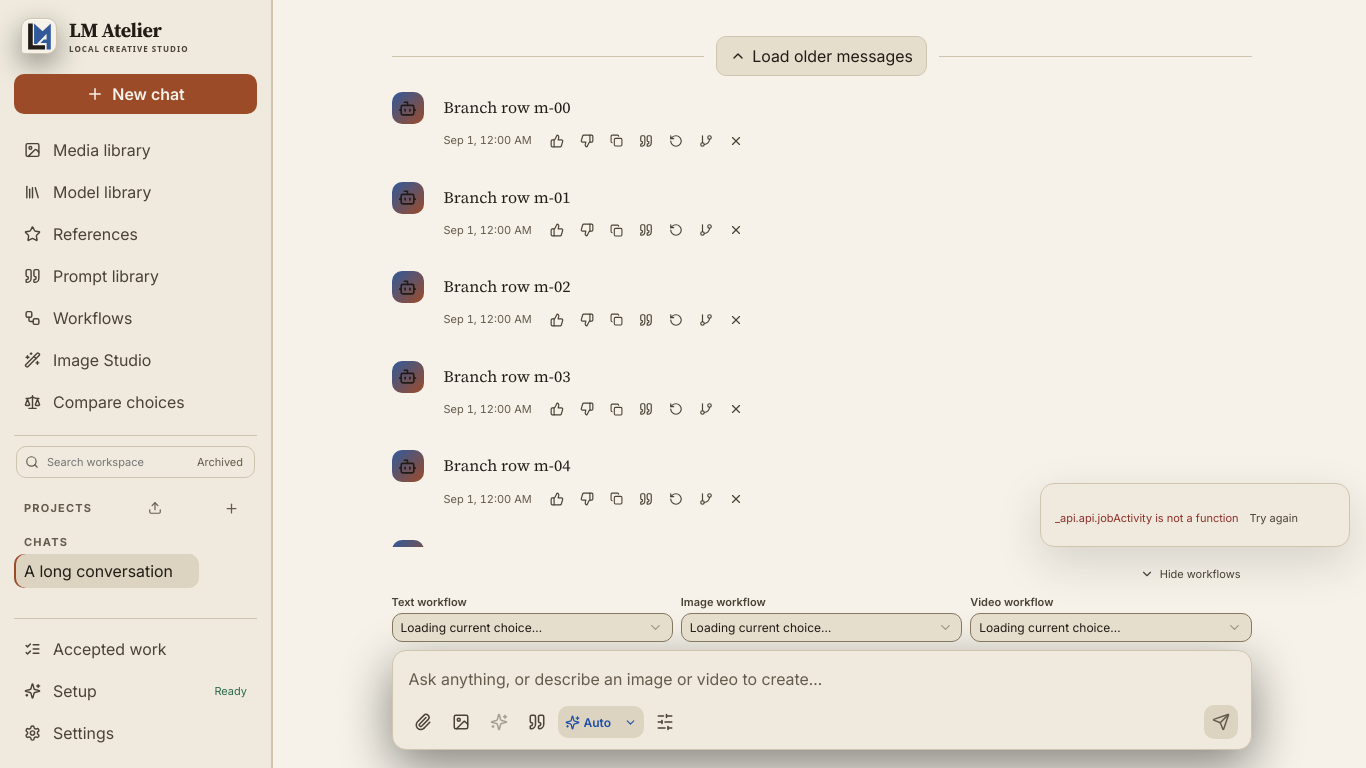
Test case: renders every branch-scoped row when a linking parent is on another page
Expected: the text "Branch row a-gap" is not shown
Click the button "Load older messages" at (822, 56), box [716,36,927,76]
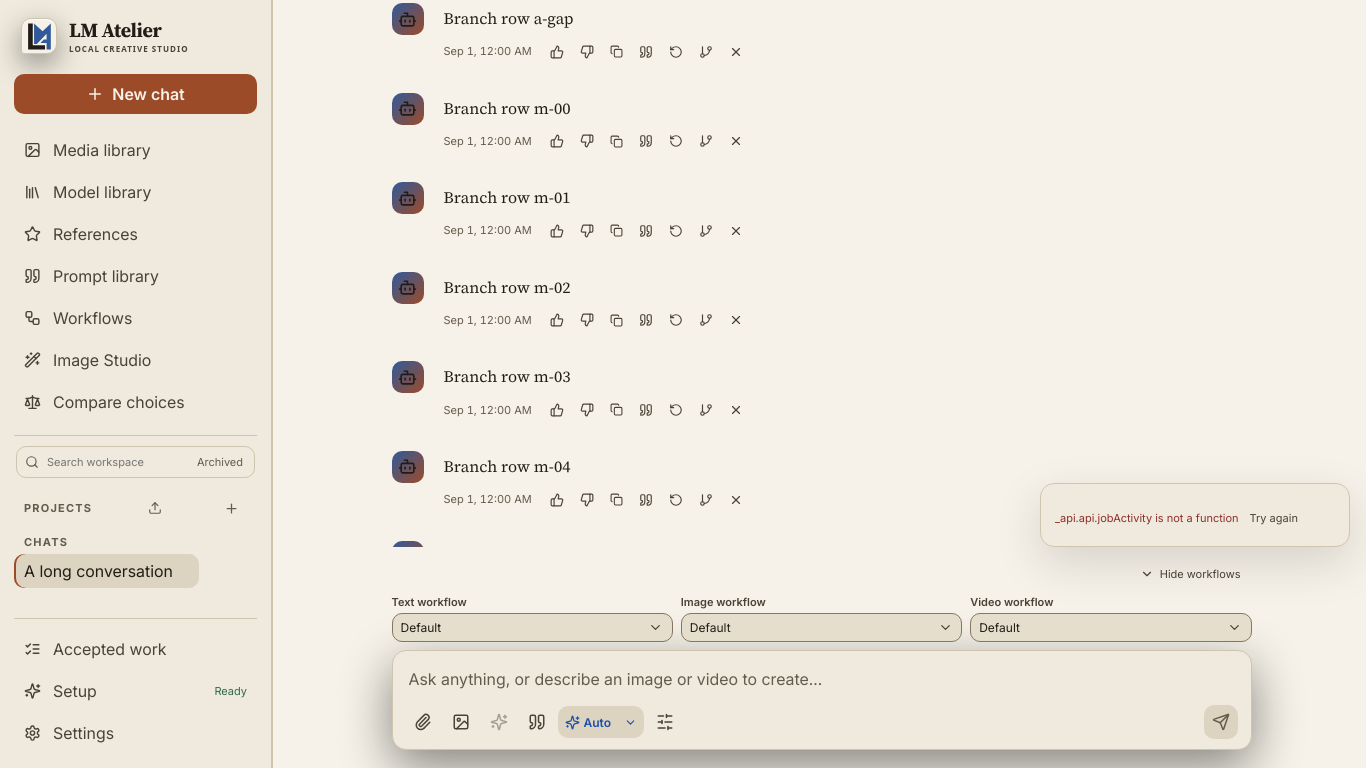
Expected: the text "Branch row a-gap" is shown, [444,7,574,29]
Expected: the text "Branch row a-gap" is shown 41 times
